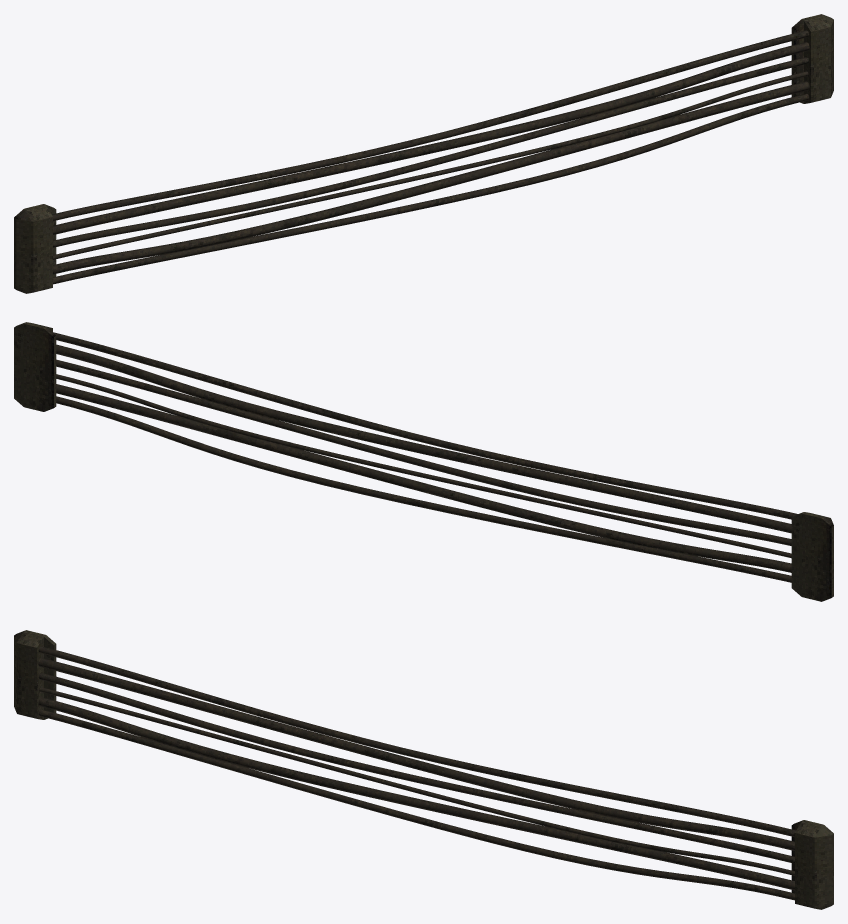
The model's file is wires_hr_1.glb.
The picture shows the model from 3 angles, top to bottom: view 1: azimuth 30°, elevation 25°; view 2: azimuth 150°, elevation 25°; view 3: azimuth 330°, elevation 25°; orthographic projection.
Visible parts, largest first — view 1: wires_hr_1; view 2: wires_hr_1; view 3: wires_hr_1.
Boxes of the visible parts, bbox=[...] form: wires_hr_1: bbox=[14, 14, 833, 293]; wires_hr_1: bbox=[14, 322, 833, 601]; wires_hr_1: bbox=[14, 630, 833, 909].
Size of the model in its own units: 4.1 by 0.4469 by 0.08.
Materials: 1 (1 with a texture image).
